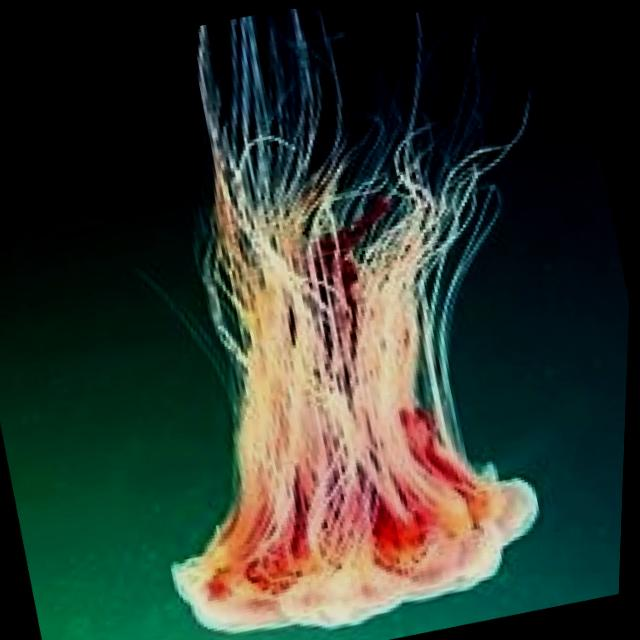Box-jellyfish: (54, 2, 640, 640)
